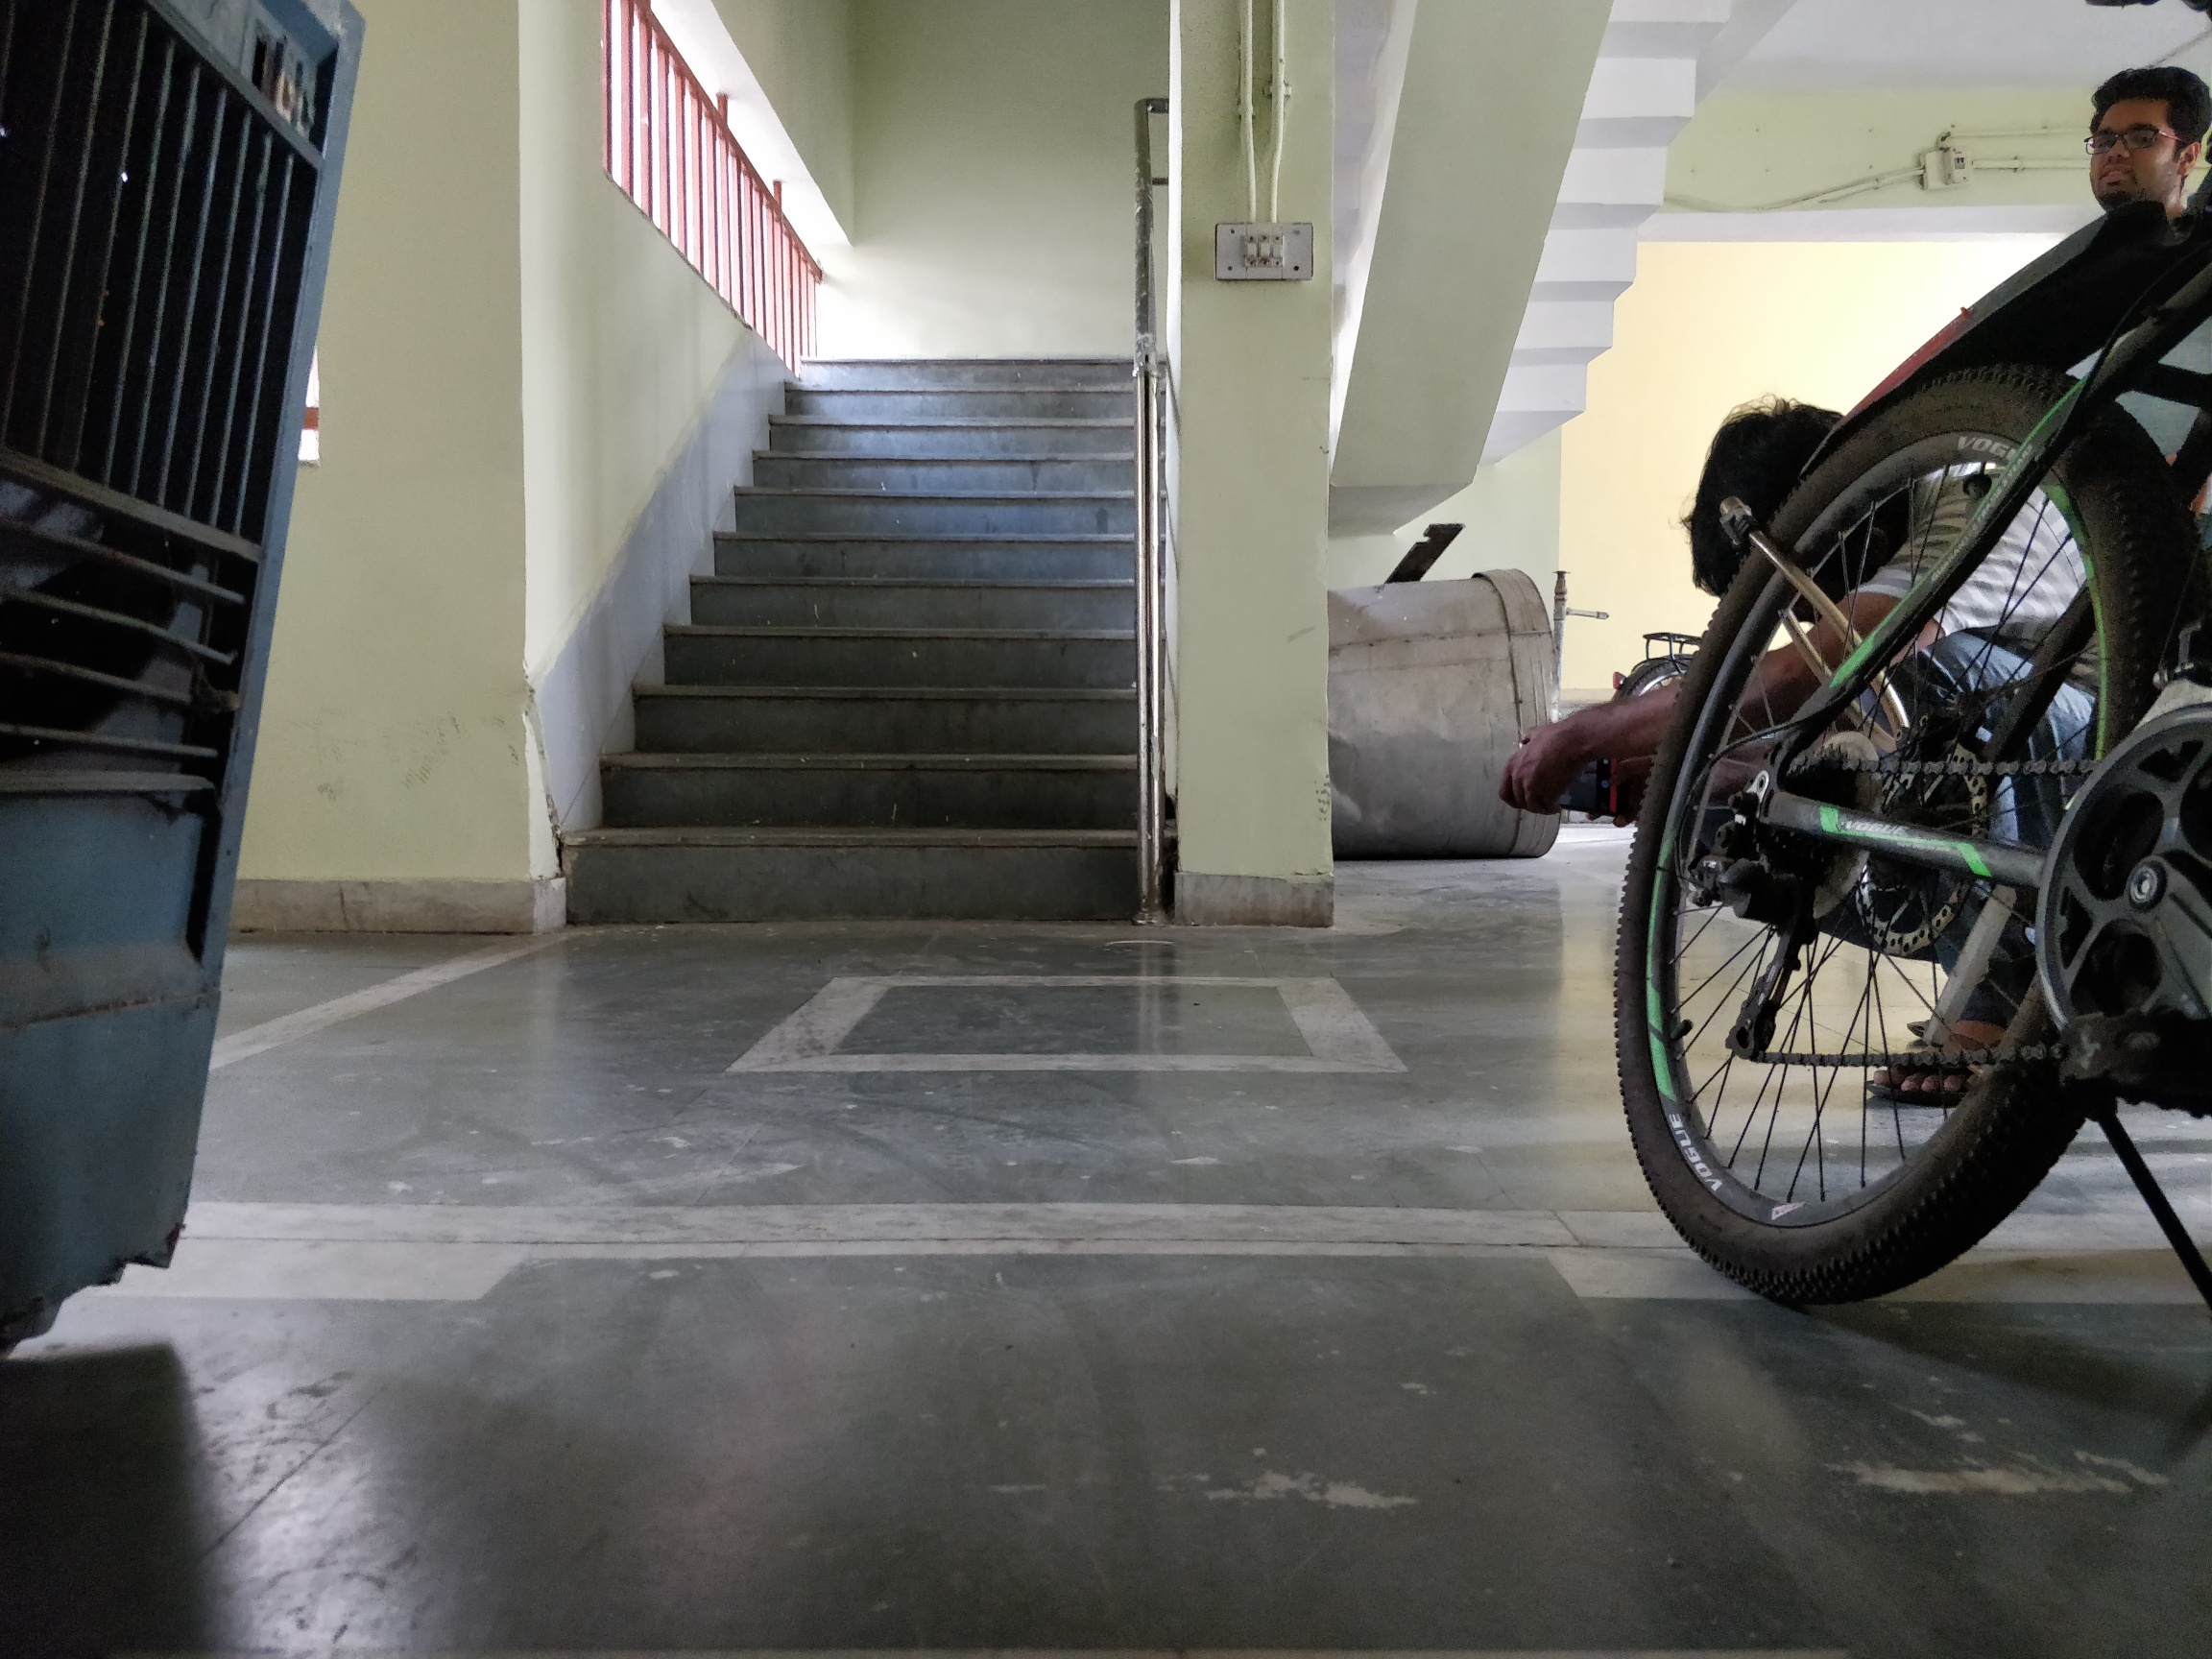stairs_up: (554, 352, 1163, 927)
